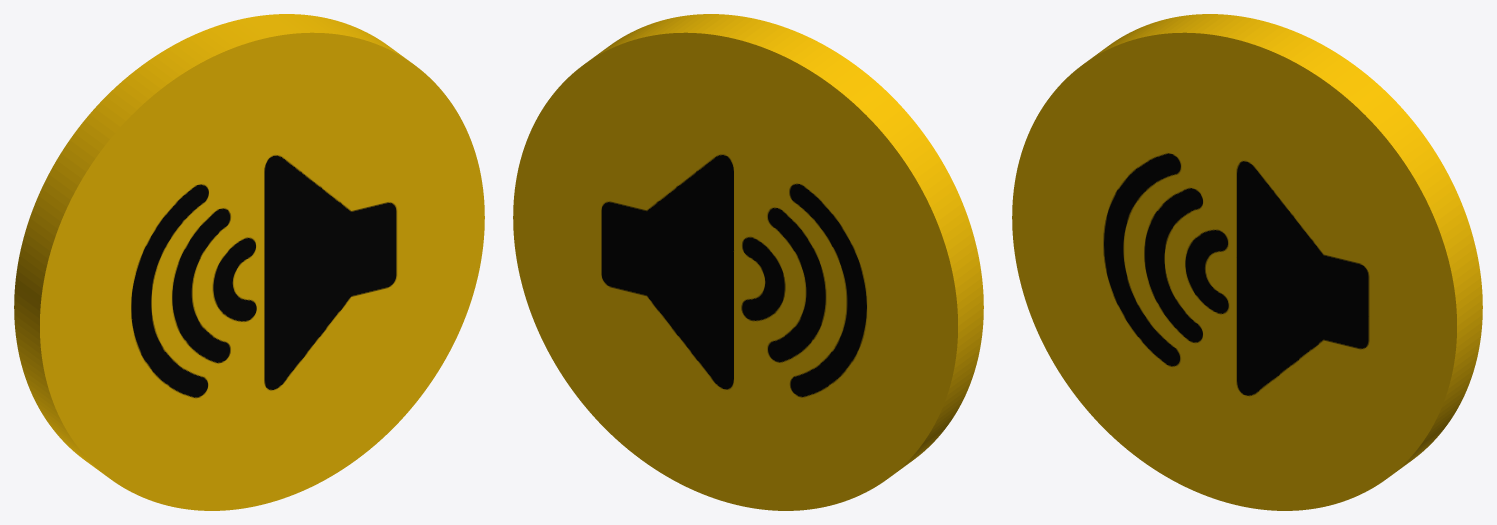
File: audio_model.dae
The picture shows the model from 3 angles, left to right: view 1: azimuth 30°, elevation 25°; view 2: azimuth 150°, elevation 25°; view 3: azimuth 330°, elevation 25°; orthographic projection.
Visible parts, largest first — view 1: Cylinder.001; view 2: Cylinder.001; view 3: Cylinder.001.
Part boxes in pixels (x1,y1,x2,y2): Cylinder.001: [14, 14, 484, 510]; Cylinder.001: [513, 14, 983, 510]; Cylinder.001: [1012, 14, 1482, 510].
Bounding box in the file's own units: 0.3 × 0.03 × 0.3.
